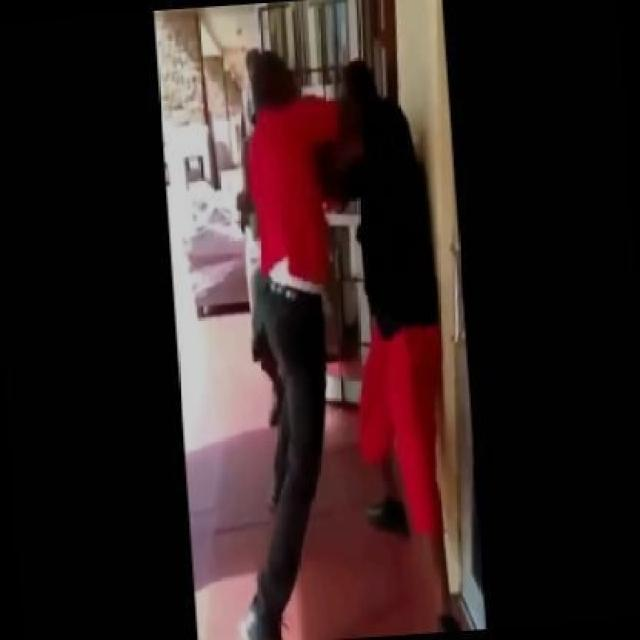fight: (226, 46, 458, 639)
